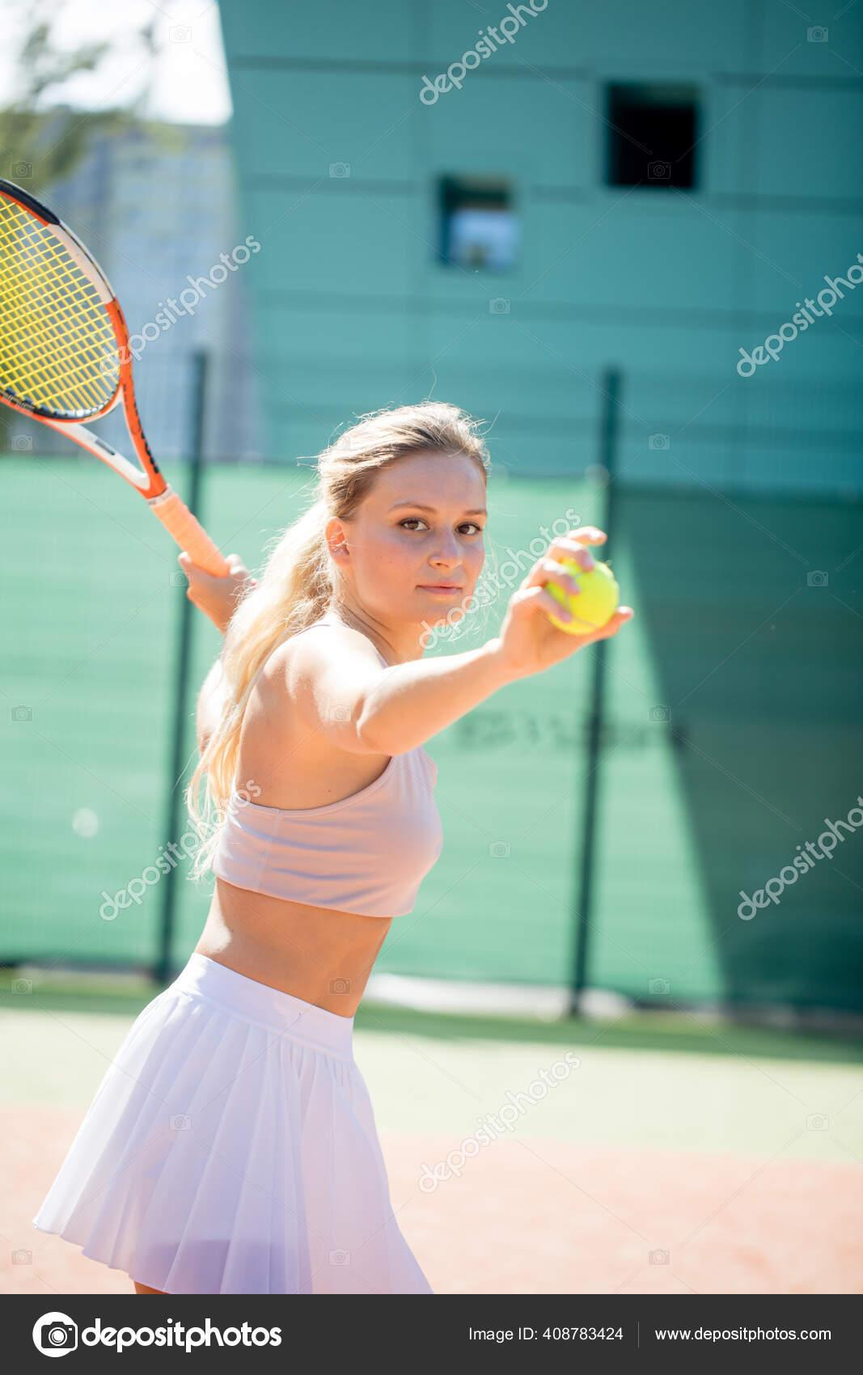ball_tennis: (540, 558, 621, 639)
